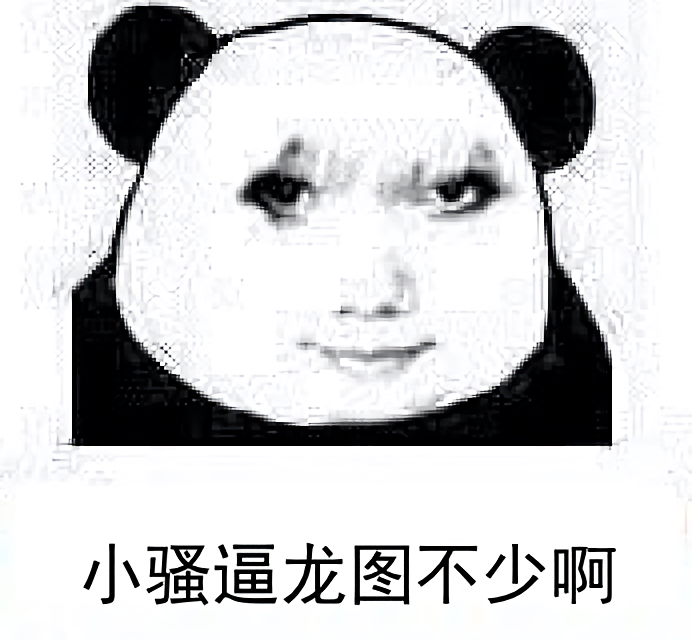dragon: (236, 134, 507, 384)
